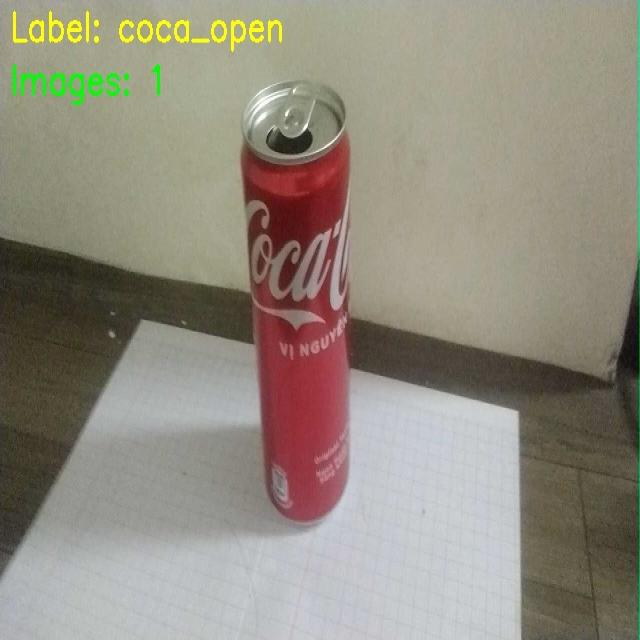Coca_open: (200, 62, 395, 550)
